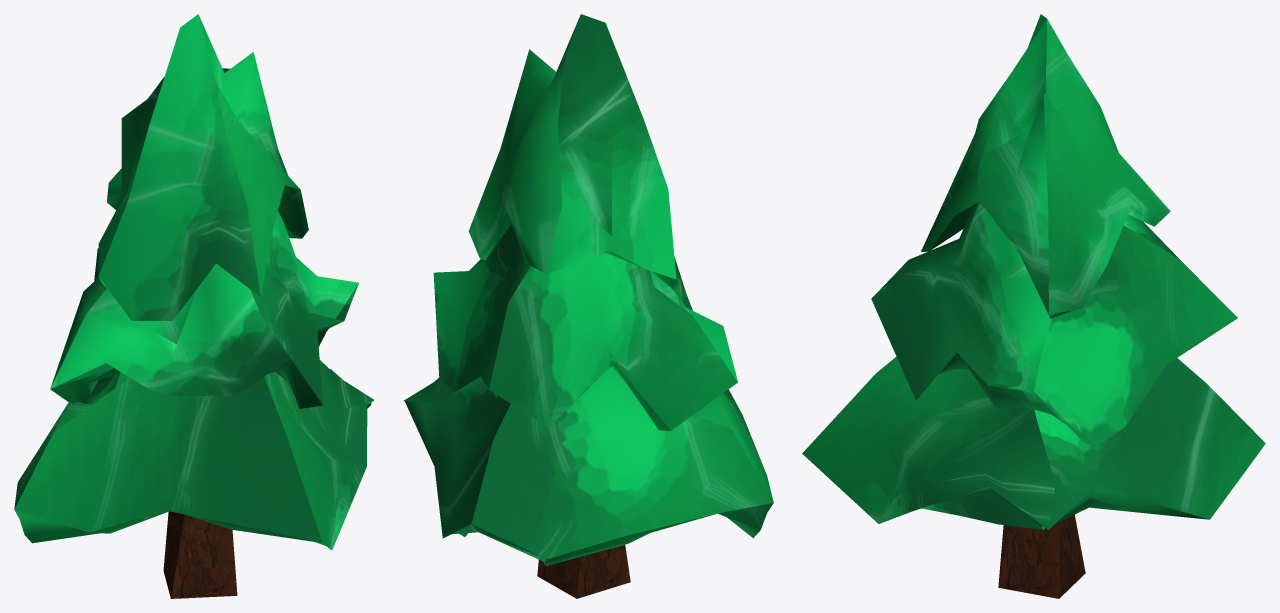
Rendered from TreeStack1.fbx.
3 renders of one model, left to right at view 1: azimuth 30°, elevation 25°; view 2: azimuth 150°, elevation 25°; view 3: azimuth 270°, elevation 25°, orthographic.
Parts seen in each view (by area): view 1: polymsh; view 2: polymsh; view 3: polymsh.
Boxes of the visible parts, x1,y1,x2,y2 form: polymsh: [14, 14, 374, 598]; polymsh: [403, 14, 773, 598]; polymsh: [802, 14, 1265, 598].
Bounding box in the file's own units: 51.55 × 76.42 × 57.16.
